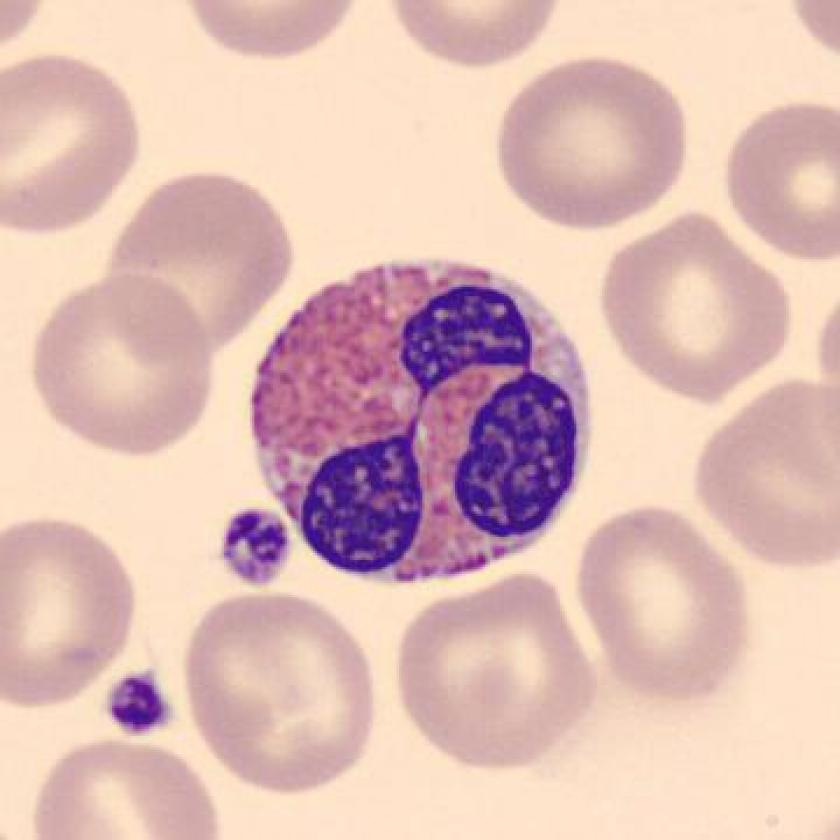eosinophil: (230, 242, 610, 600)
